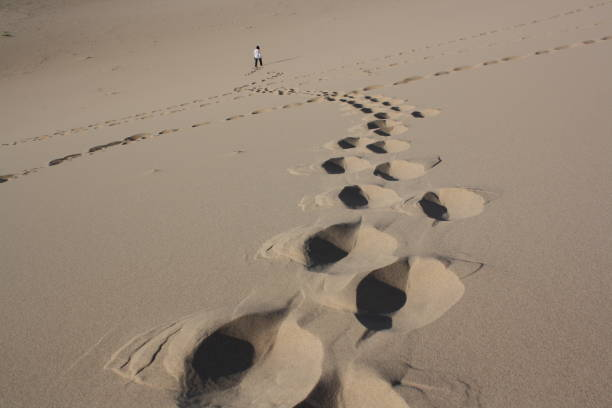human_foot_print: (259, 205, 462, 346), (106, 298, 360, 406), (106, 301, 323, 406), (0, 84, 249, 147), (319, 256, 463, 341), (258, 218, 396, 274), (411, 187, 497, 221), (299, 184, 403, 210), (288, 155, 372, 174), (374, 157, 441, 180), (330, 135, 340, 136)
